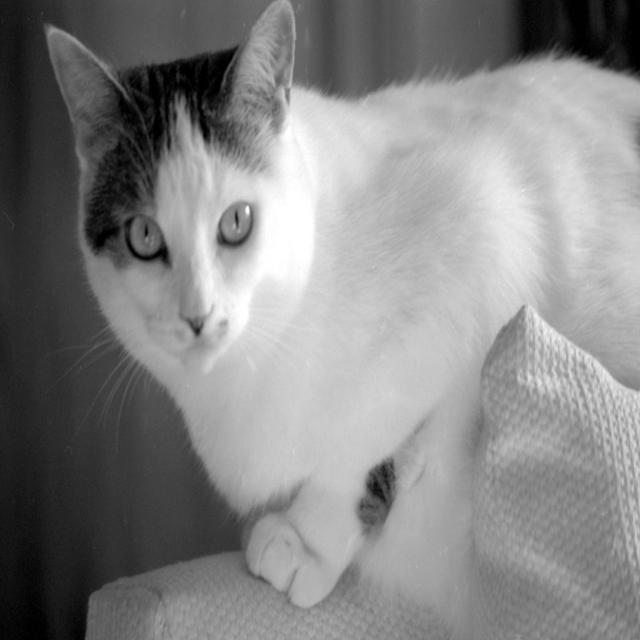cat: (42, 2, 640, 627)
